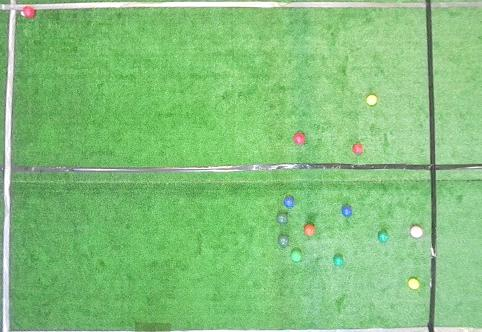blue: (341, 205, 352, 217), (283, 197, 295, 208)
green: (277, 235, 289, 247), (276, 213, 288, 224), (291, 250, 302, 262), (378, 231, 389, 243), (333, 255, 344, 266)
red: (293, 132, 306, 145), (303, 224, 316, 236), (410, 226, 423, 238), (23, 6, 36, 18), (352, 144, 363, 155)
vline: (425, 0, 481, 331), (0, 0, 18, 331)
white: (21, 11, 25, 16)
yellow: (408, 278, 420, 289), (366, 95, 377, 106)
